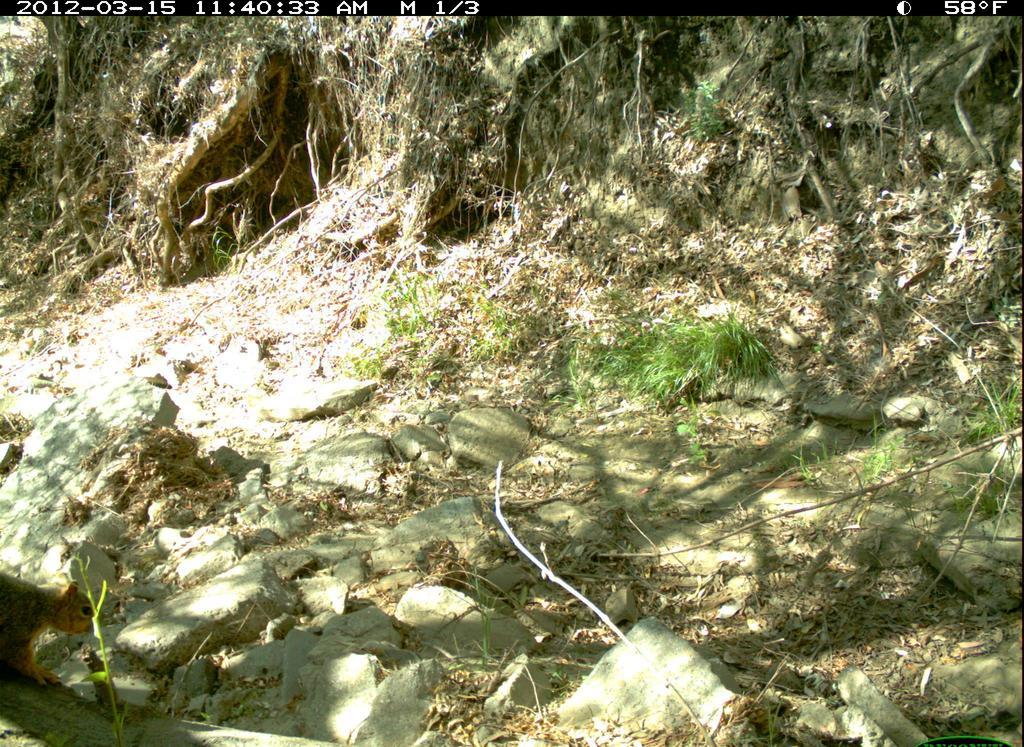squirrel: (1, 560, 112, 686)
